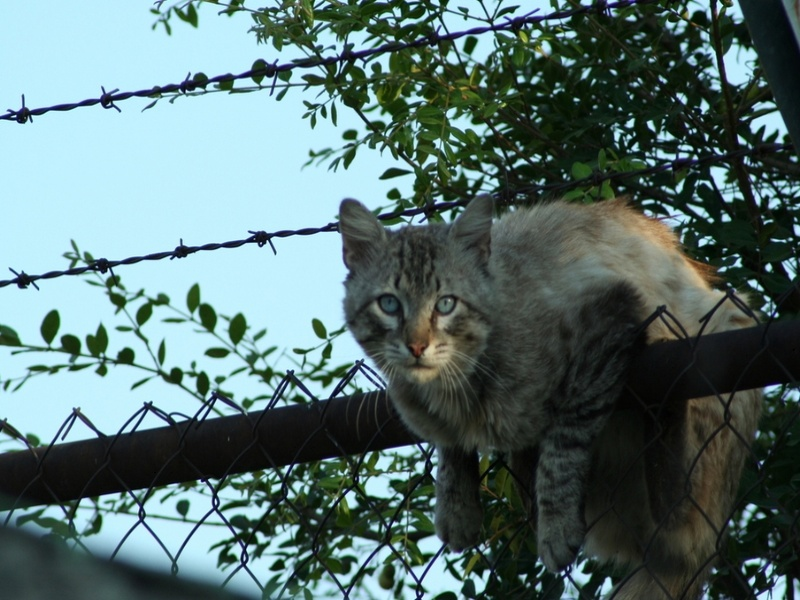cat: (336, 194, 763, 584)
